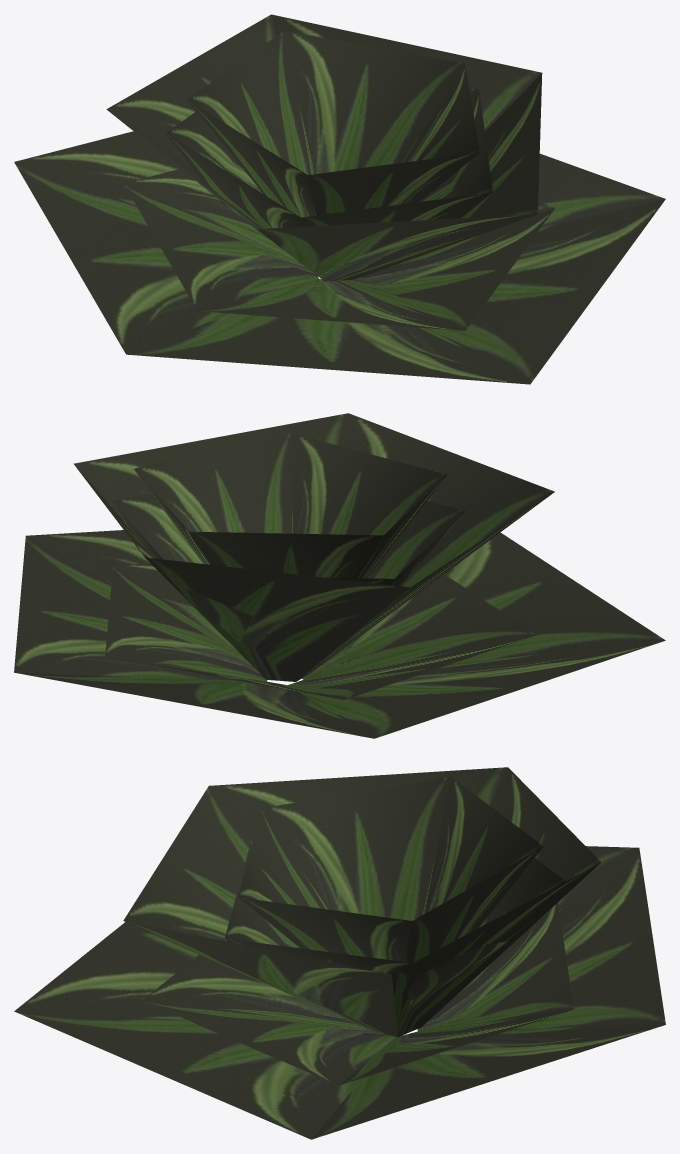
The model's file is jungle_plant_b.fbx.
3 views of the same model, one above another, from view 1: azimuth 30°, elevation 25°; view 2: azimuth 150°, elevation 25°; view 3: azimuth 270°, elevation 25° (orthographic). The views are drawn at different scales.
Parts seen in each view (by area): view 1: leaves_2, leaves_4, leaves_1, leaves_3, leaves_5; view 2: leaves_2, leaves_3, leaves_4, leaves_1, leaves_5; view 3: leaves_2, leaves_4, leaves_3, leaves_1, leaves_5.
Boxes of the visible parts, x1=… form: leaves_2: x1=14, y1=131, x2=665, y2=384; leaves_4: x1=187, y1=30, x2=479, y2=217; leaves_1: x1=123, y1=169, x2=554, y2=330; leaves_3: x1=106, y1=14, x2=542, y2=281; leaves_5: x1=165, y1=88, x2=492, y2=228; leaves_2: x1=14, y1=530, x2=665, y2=738; leaves_3: x1=73, y1=413, x2=554, y2=681; leaves_4: x1=134, y1=433, x2=447, y2=578; leaves_1: x1=105, y1=563, x2=536, y2=699; leaves_5: x1=112, y1=493, x2=465, y2=642; leaves_2: x1=14, y1=846, x2=665, y2=1139; leaves_4: x1=238, y1=777, x2=543, y2=962; leaves_3: x1=123, y1=767, x2=601, y2=1037; leaves_1: x1=142, y1=902, x2=573, y2=1085; leaves_5: x1=224, y1=838, x2=565, y2=1006.
Bounding box in the file's own units: 2014 × 626 × 1904.
Materials: 1 (1 with a texture image).
